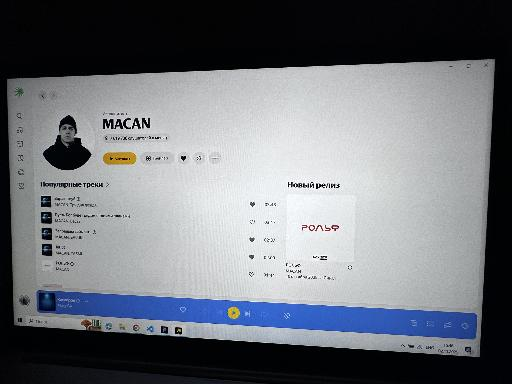yandexmusic: (7, 79, 493, 357)
